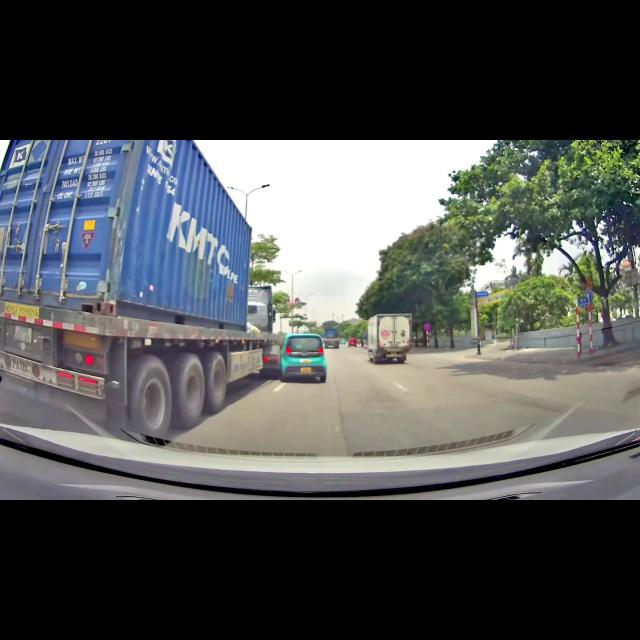car: (280, 334, 327, 382), (348, 338, 357, 346), (340, 339, 346, 344)
